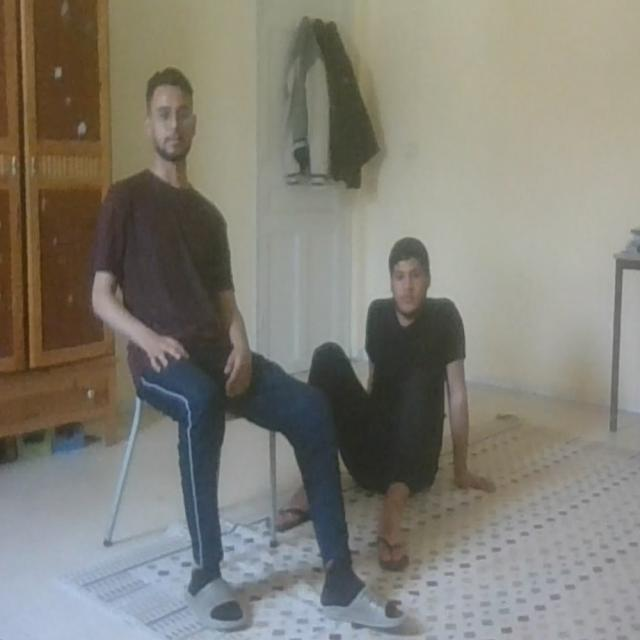non-fight: (72, 72, 357, 605), (306, 205, 470, 600)
